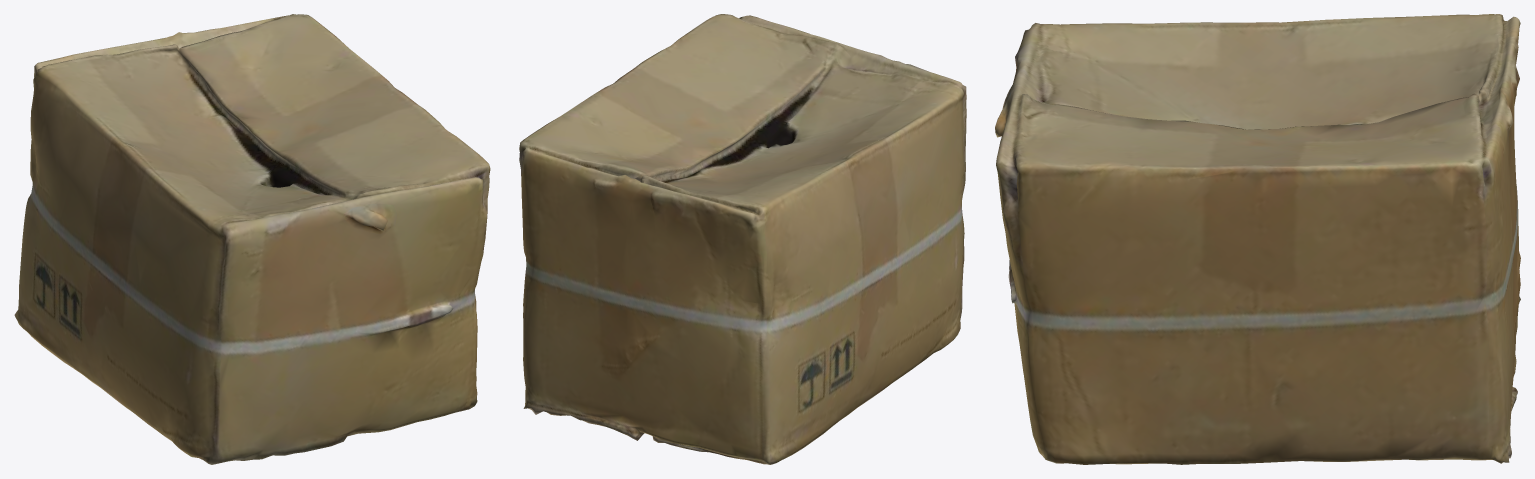
Rendered from cardboard_box_01.glb.
The picture shows the model from 3 angles, left to right: view 1: azimuth 30°, elevation 25°; view 2: azimuth 150°, elevation 25°; view 3: azimuth 270°, elevation 25°; orthographic projection. The views are drawn at different scales.
Parts seen in each view (by area): view 1: cardboard_box_01; view 2: cardboard_box_01; view 3: cardboard_box_01.
Part boxes in pixels (left/top/right/bottom): cardboard_box_01: left=14, top=14, right=490, bottom=464; cardboard_box_01: left=519, top=14, right=966, bottom=464; cardboard_box_01: left=995, top=14, right=1520, bottom=464.
Size of the model in its own units: 0.3869 by 0.3418 by 0.5159.
Materials: 1 (1 with a texture image).
